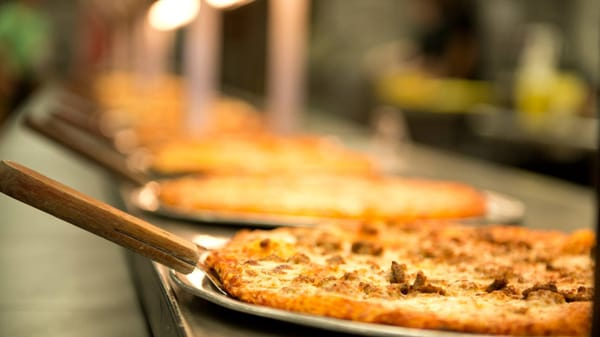sandwich: (0, 159, 201, 276)
